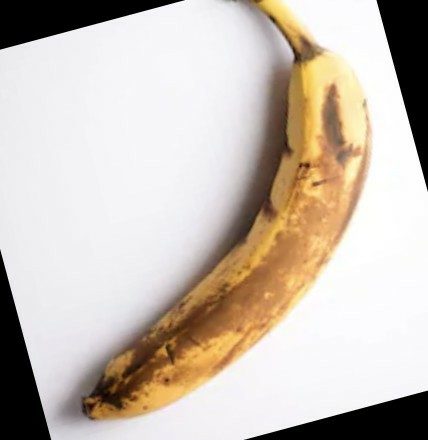rotten_banana: (83, 13, 373, 428)
